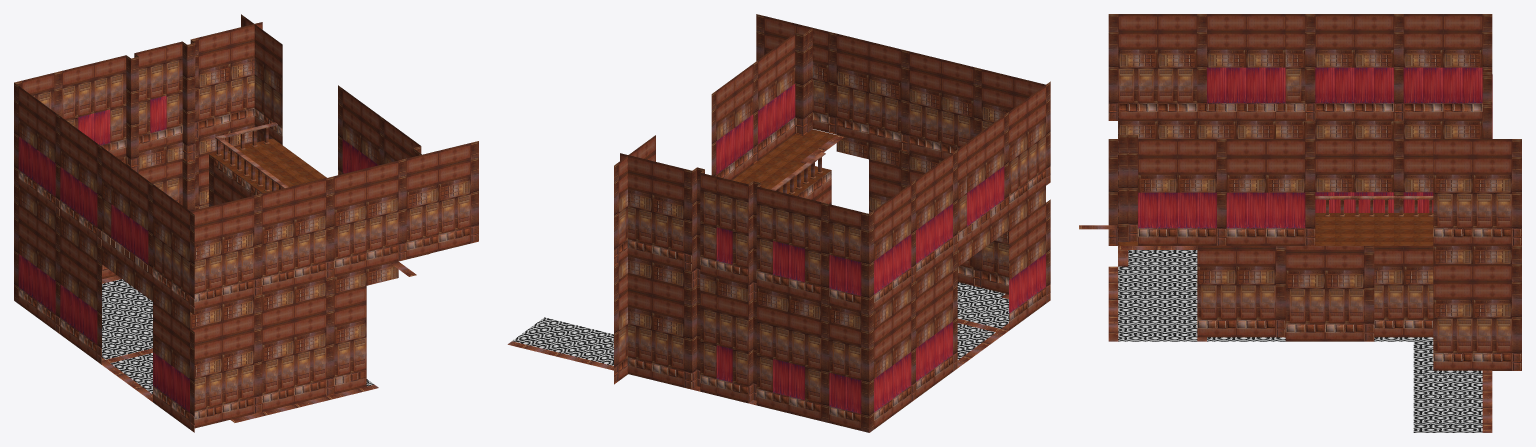
Rendered from env_staircase_01.FBX.
3 renders of one model, left to right at view 1: azimuth 30°, elevation 25°; view 2: azimuth 150°, elevation 25°; view 3: azimuth 270°, elevation 25°, orthographic. The views are drawn at different scales.
Visible parts, largest first — view 1: env_staircase_01; view 2: env_staircase_01; view 3: env_staircase_01.
Boxes of the visible parts, x1,y1,x2,y2 form: env_staircase_01: (14,14,478,432); env_staircase_01: (507,14,1050,432); env_staircase_01: (1079,14,1521,432).
Size of the model in its own units: 887 by 513 by 886.
Materials: 5 (5 with a texture image).
